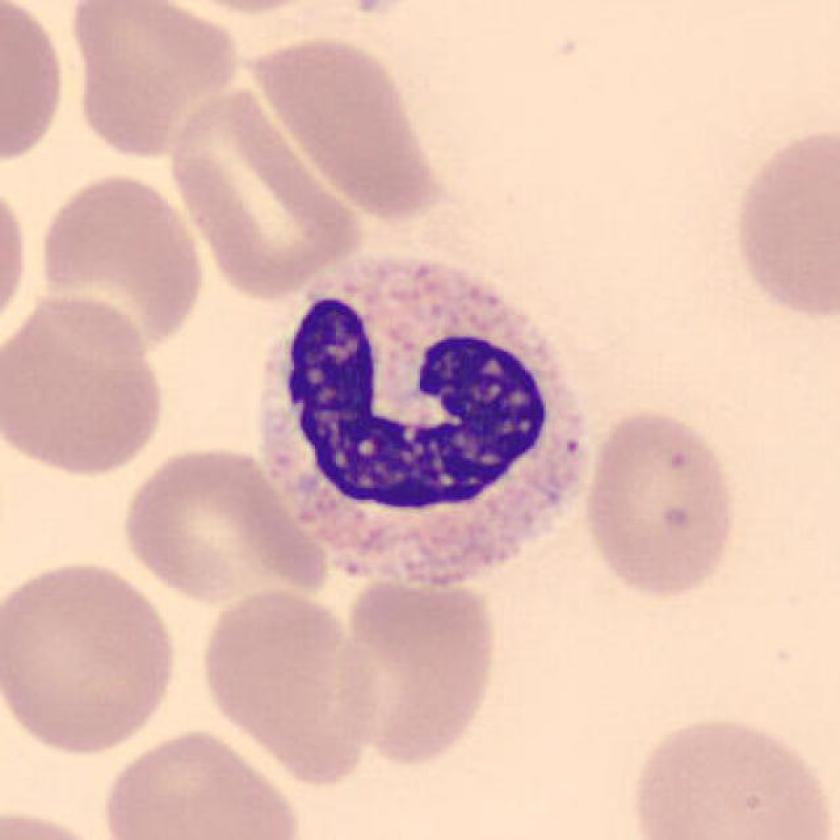neutrophil: (258, 253, 592, 588)
